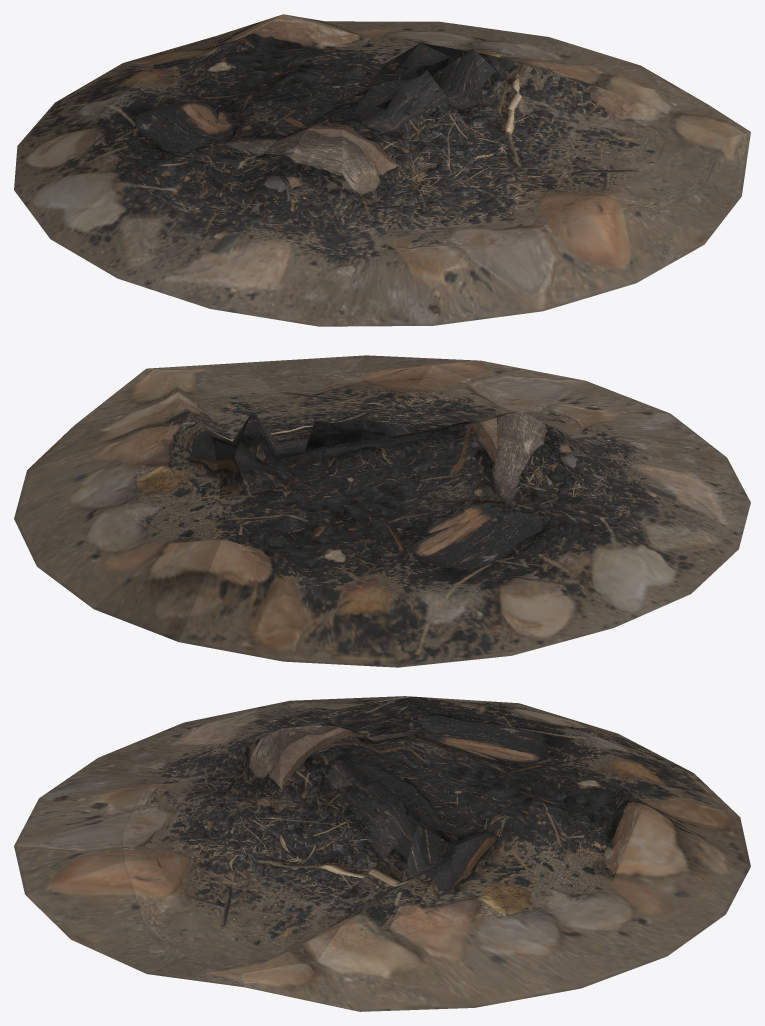
Rendered from Campfire.fbx.
The picture shows the model from 3 angles, top to bottom: view 1: azimuth 30°, elevation 25°; view 2: azimuth 150°, elevation 25°; view 3: azimuth 270°, elevation 25°; orthographic projection.
Parts seen in each view (by area): view 1: Campfire; view 2: Campfire; view 3: Campfire.
Boxes of the visible parts, x1,y1,x2,y2 form: Campfire: [14, 14, 750, 326]; Campfire: [14, 355, 750, 667]; Campfire: [14, 696, 750, 1011].
Size of the model in its own units: 1.34 by 0.1748 by 1.34.
